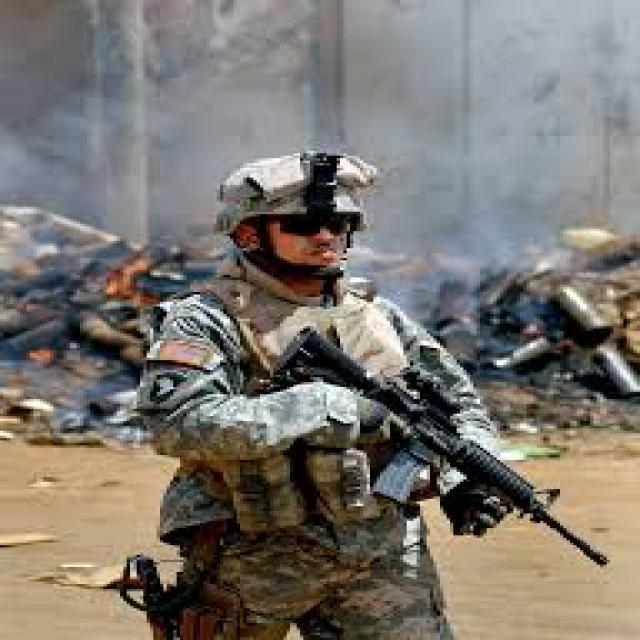m16: (222, 316, 631, 592)
